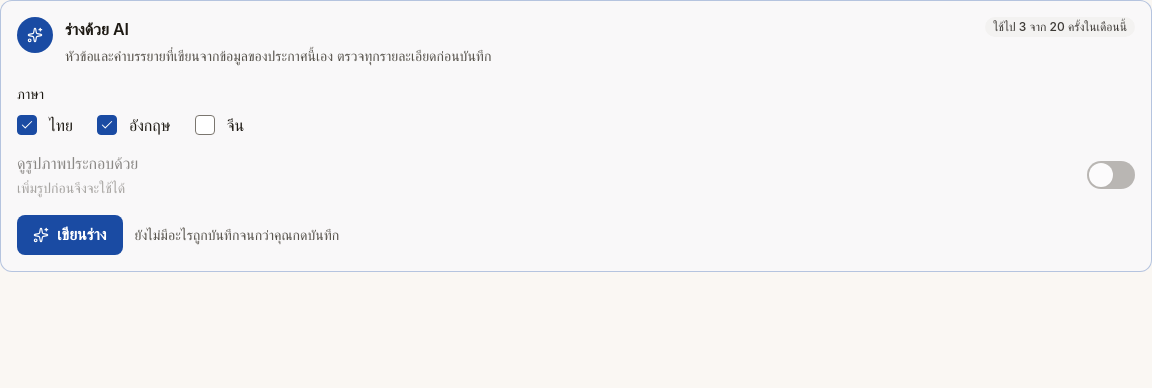
Test case: ListingAssistant refusals (review M2) › shows the designed title and body for a dotted API code, never the key path
This screenshot has width=1152, height=388.
Click the button with test id "assistant-generate".
click(70, 235)  # box [17,215,122,255]
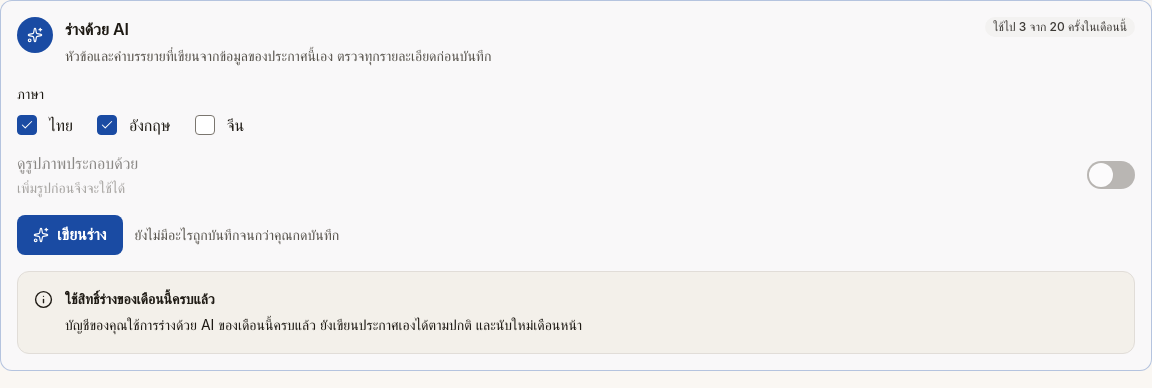
Expected: the element with test id "assistant-problem" shows "ใช้สิทธิ์ร่างของเดือนนี้ครบแล้ว", [65,290,215,307]
